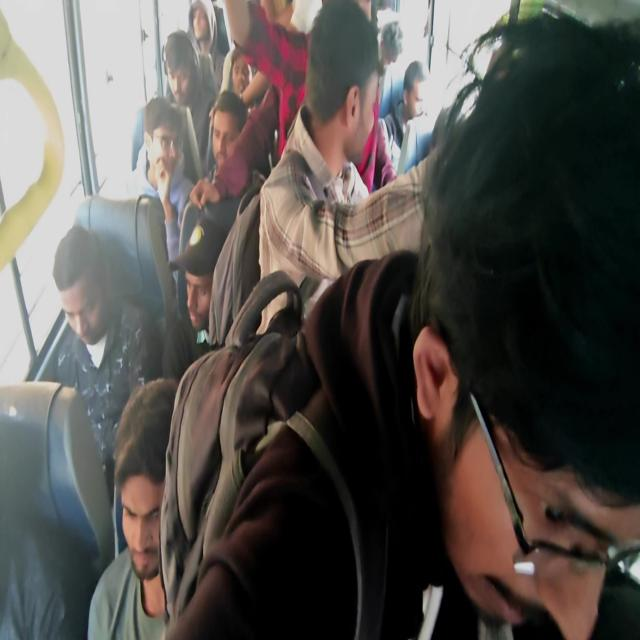person: (161, 11, 639, 638), (410, 11, 639, 638), (257, 0, 446, 311), (49, 224, 163, 558), (223, 0, 397, 196), (87, 376, 178, 638), (223, 0, 311, 158), (132, 29, 217, 182), (190, 78, 280, 210), (130, 97, 196, 266), (163, 215, 227, 379), (381, 59, 428, 173), (187, 0, 226, 94)
